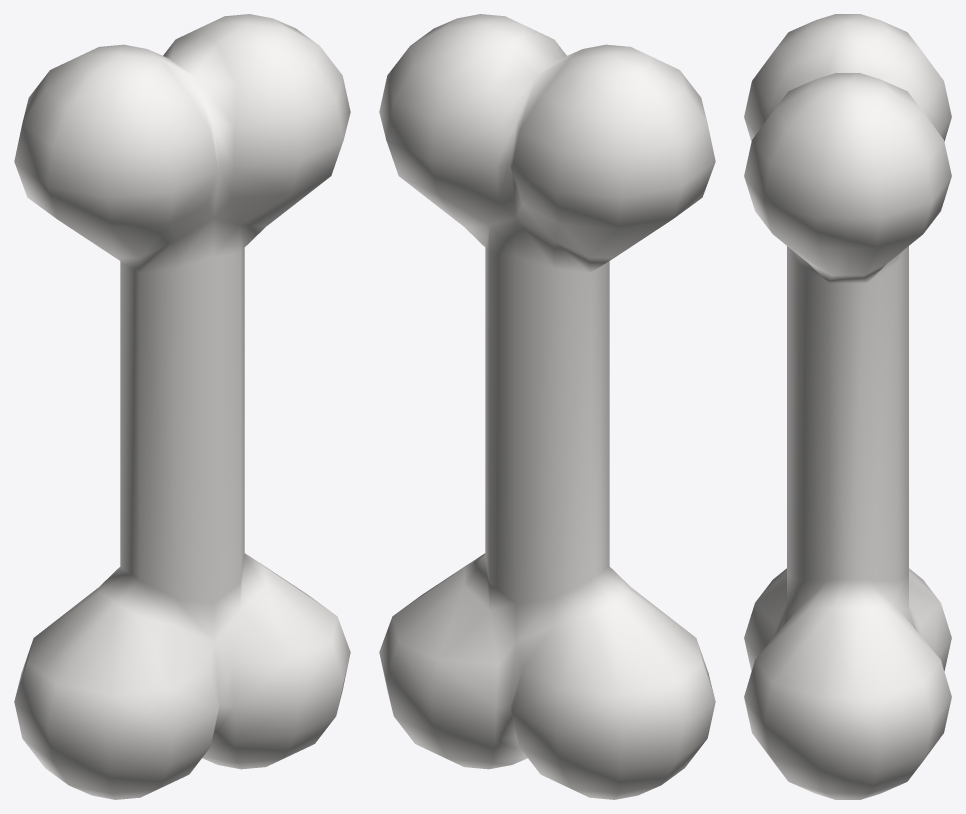
File: bone.fbx
3 renders of one model, left to right at view 1: azimuth 30°, elevation 25°; view 2: azimuth 150°, elevation 25°; view 3: azimuth 270°, elevation 25°, orthographic. The views are drawn at different scales.
Parts seen in each view (by area): view 1: bone_mesh; view 2: bone_mesh; view 3: bone_mesh.
Boxes of the visible parts, box(x1,y1,x2,y2) form: bone_mesh: box(14, 14, 350, 799); bone_mesh: box(379, 14, 715, 799); bone_mesh: box(744, 14, 951, 799).
Size of the model in its own units: 1.47 by 3.41 by 0.9056.
